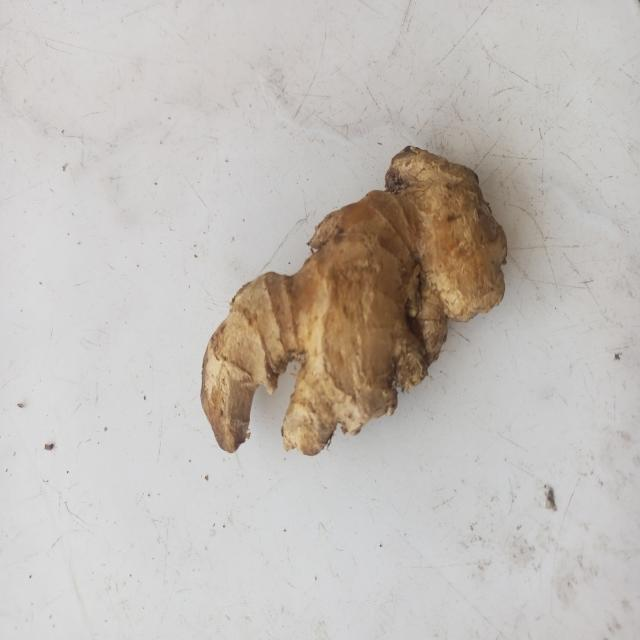ginger: (207, 151, 502, 449)
